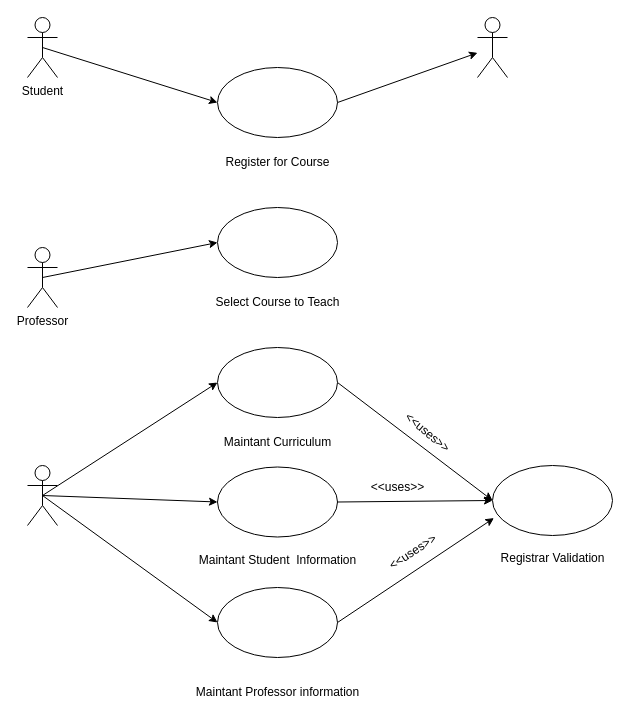
This 635x725 diagram has some shape labels left out. The box of each missing label's shape, as (x1, y1, x2, y2) in pixels:
Billing System: (476, 16, 508, 78)
Regisrar: (26, 464, 58, 526)
